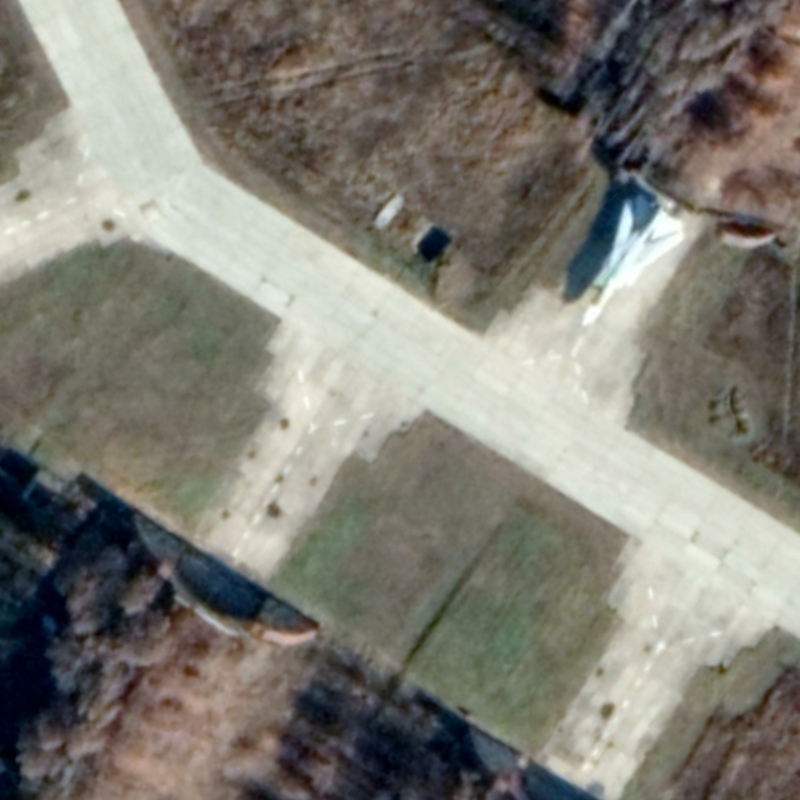A20: (578, 191, 689, 329)
